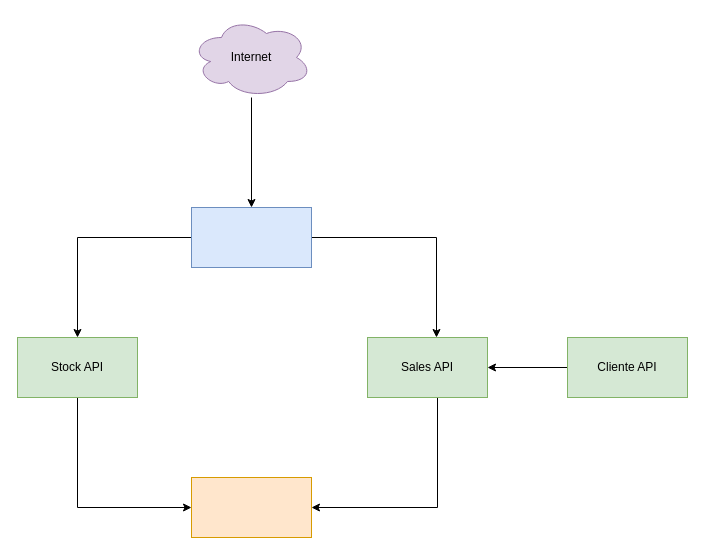
This 705x555 diagram has some shape labels left out. Each missing label, with the centre of its shape:
"API Gateway" belongs at point 251,237.
"Item catalogue API" belongs at point 251,507.
